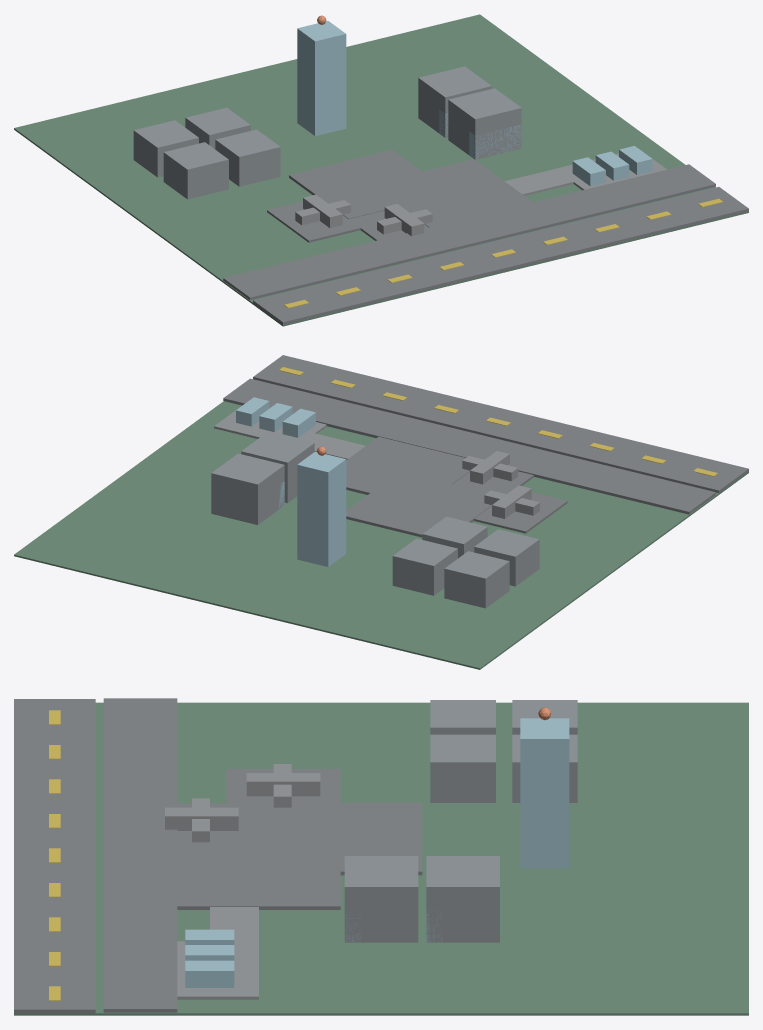
Rendered from stage_14.glb.
The picture shows the model from 3 angles, top to bottom: view 1: azimuth 30°, elevation 25°; view 2: azimuth 150°, elevation 25°; view 3: azimuth 270°, elevation 25°; orthographic projection. The views are drawn at different scales.
Parts seen in each view (by area): view 1: geometry_0; view 2: geometry_0; view 3: geometry_0.
Part boxes in pixels (x1,y1,x2,y2): geometry_0: [14, 14, 748, 326]; geometry_0: [14, 355, 748, 669]; geometry_0: [14, 698, 748, 1015].
Size of the model in its own units: 9 by 2.06 by 9.
